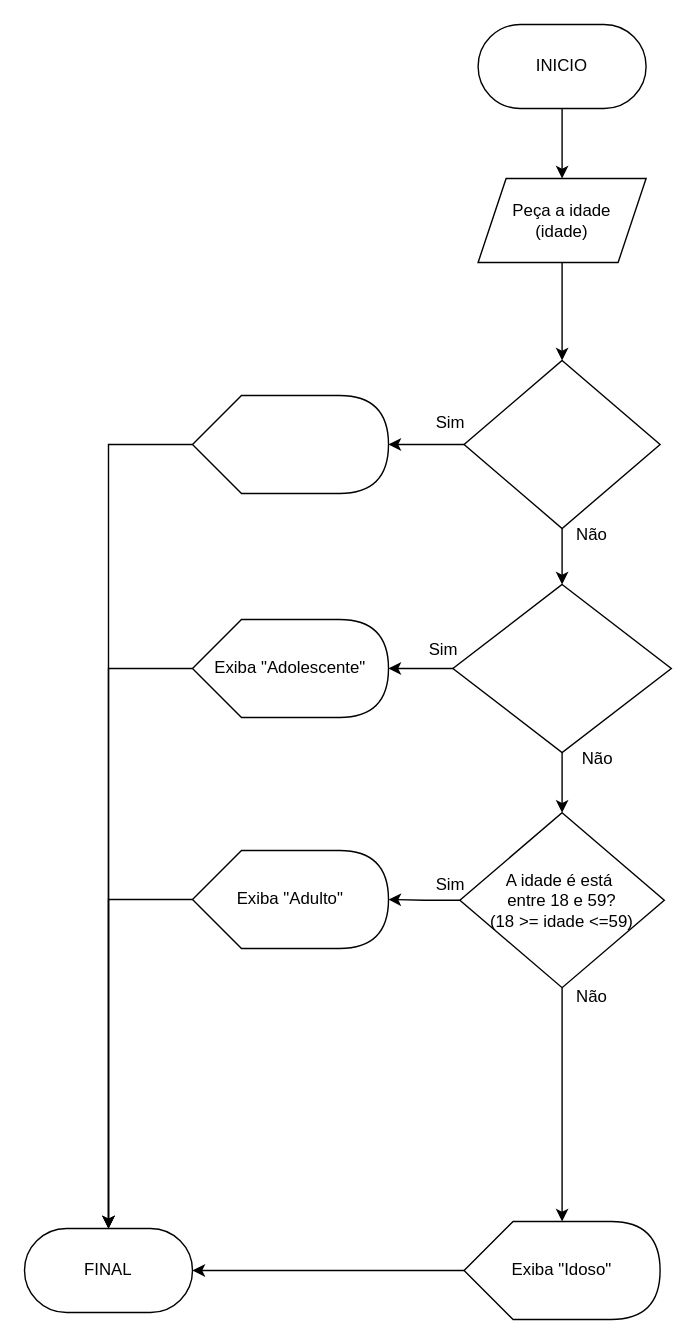
The diagram is 696 pixels wide and 1344 high, and some of its shapes have lost their labels. Here are the shapes that lost their labels. From the top down, the centre of each, then its label:
(289,443): Exiba "Criança"
(561,443): A idade é menor ou igual a 12? (idade <= 12)
(561,667): A idade está entre 13 e 17? (13 >= idade <= 17)
